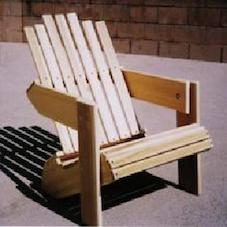chair: (9, 4, 212, 219)
